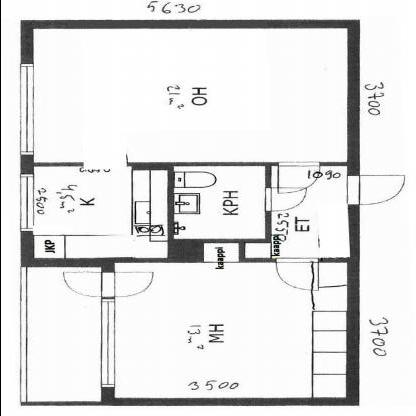door: (59, 268, 159, 300), (344, 171, 408, 207), (273, 157, 321, 195), (273, 256, 319, 294), (107, 266, 155, 300), (61, 268, 110, 300), (260, 185, 308, 213)
window: (11, 60, 41, 158), (96, 299, 121, 392), (12, 169, 39, 233)
